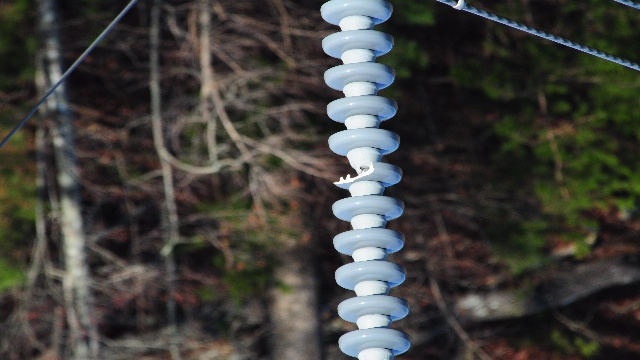broken_local: (332, 159, 375, 185)
insulator_unspecified: (319, 0, 412, 358)
